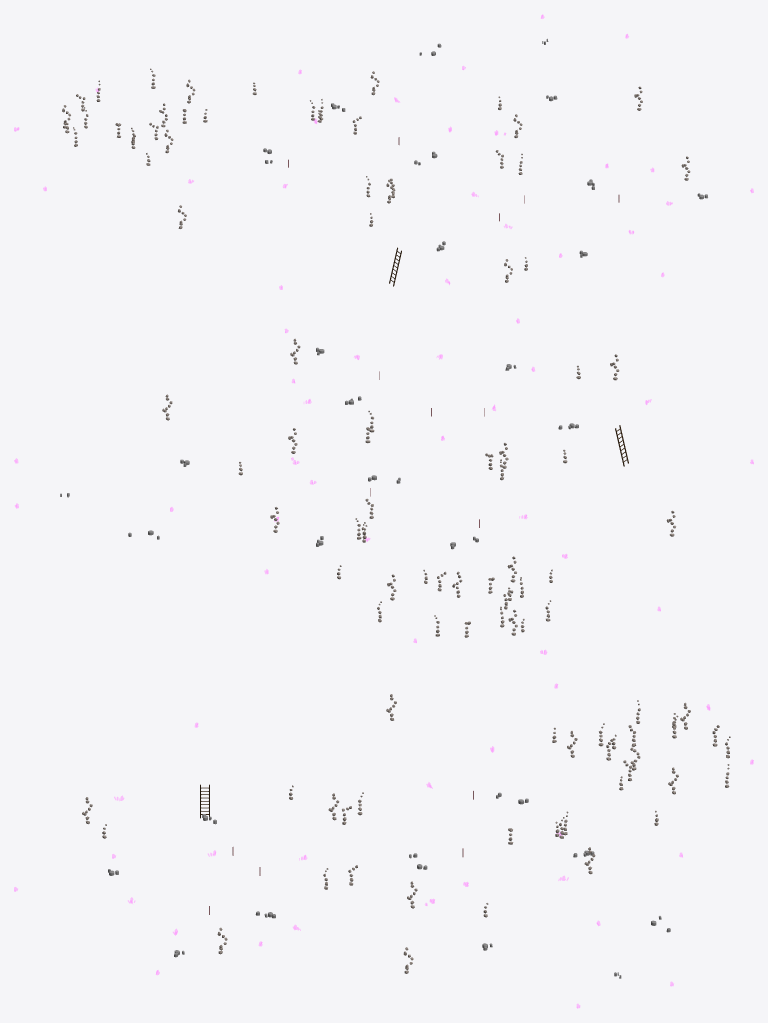
File: no_colliders.fbx
The picture shows the model from 3 angles, top to bottom: view 1: azimuth 30°, elevation 25°; view 2: azimuth 150°, elevation 25°; view 3: azimuth 270°, elevation 25°; orthographic projection. The views are drawn at different scales.
Visible parts, largest first — view 1: no_colliders; view 2: no_colliders; view 3: no_colliders.
Part boxes in pixels (bbox=[...]): no_colliders: bbox=[14, 14, 753, 289]; no_colliders: bbox=[14, 318, 753, 654]; no_colliders: bbox=[14, 683, 753, 1008].
Bounding box in the file's own units: 15610 × 1241 × 15097.
